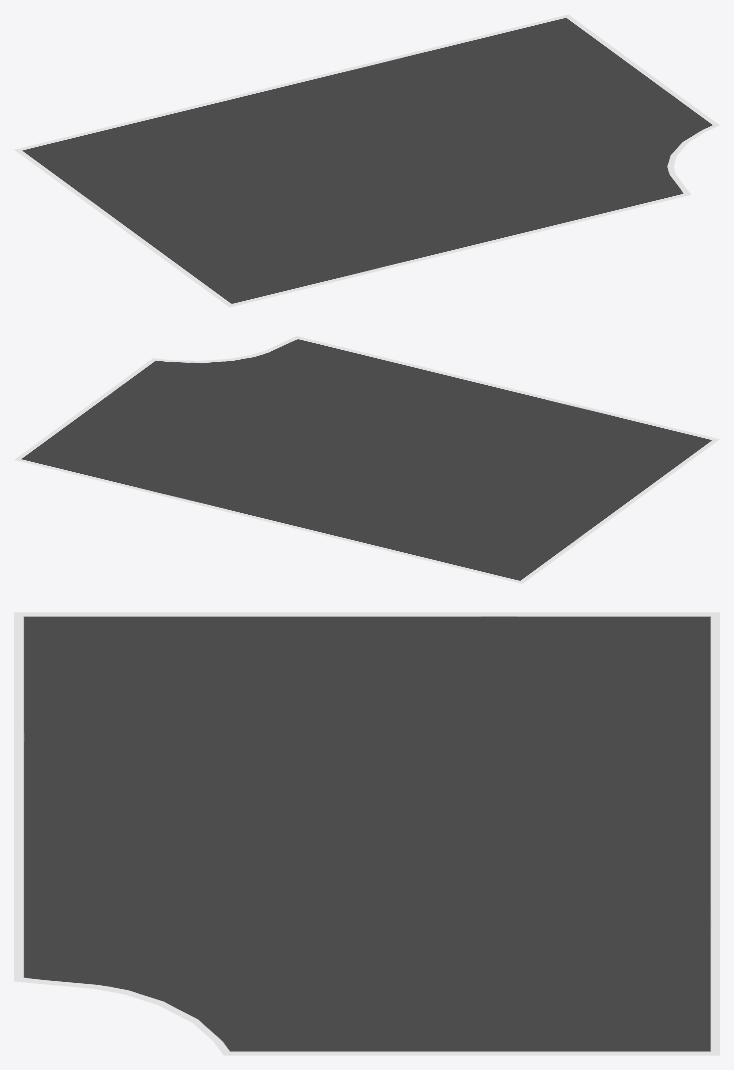
File: QuarterForest.fbx
The picture shows the model from 3 angles, top to bottom: view 1: azimuth 30°, elevation 25°; view 2: azimuth 150°, elevation 25°; view 3: azimuth 270°, elevation 25°; orthographic projection. The views are drawn at different scales.
Visible parts, largest first — view 1: LefrQuarterForest; view 2: LefrQuarterForest; view 3: LefrQuarterForest.
Part boxes in pixels (x1,y1,x2,y2): LefrQuarterForest: (14, 14, 719, 307); LefrQuarterForest: (14, 336, 719, 583); LefrQuarterForest: (14, 612, 719, 1055).
Size of the model in its own units: 1045 by 0 by 704.
